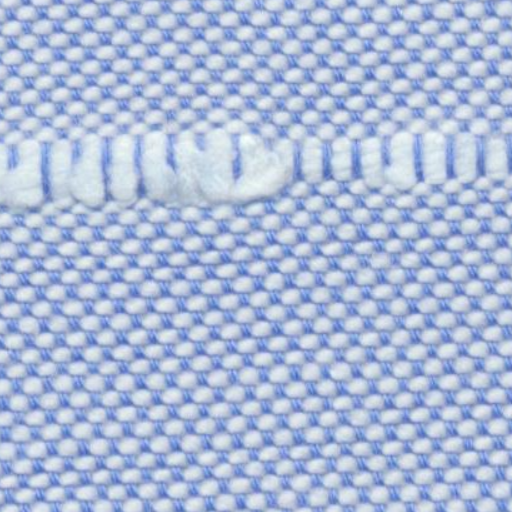DaiSha: (6, 118, 500, 224)
